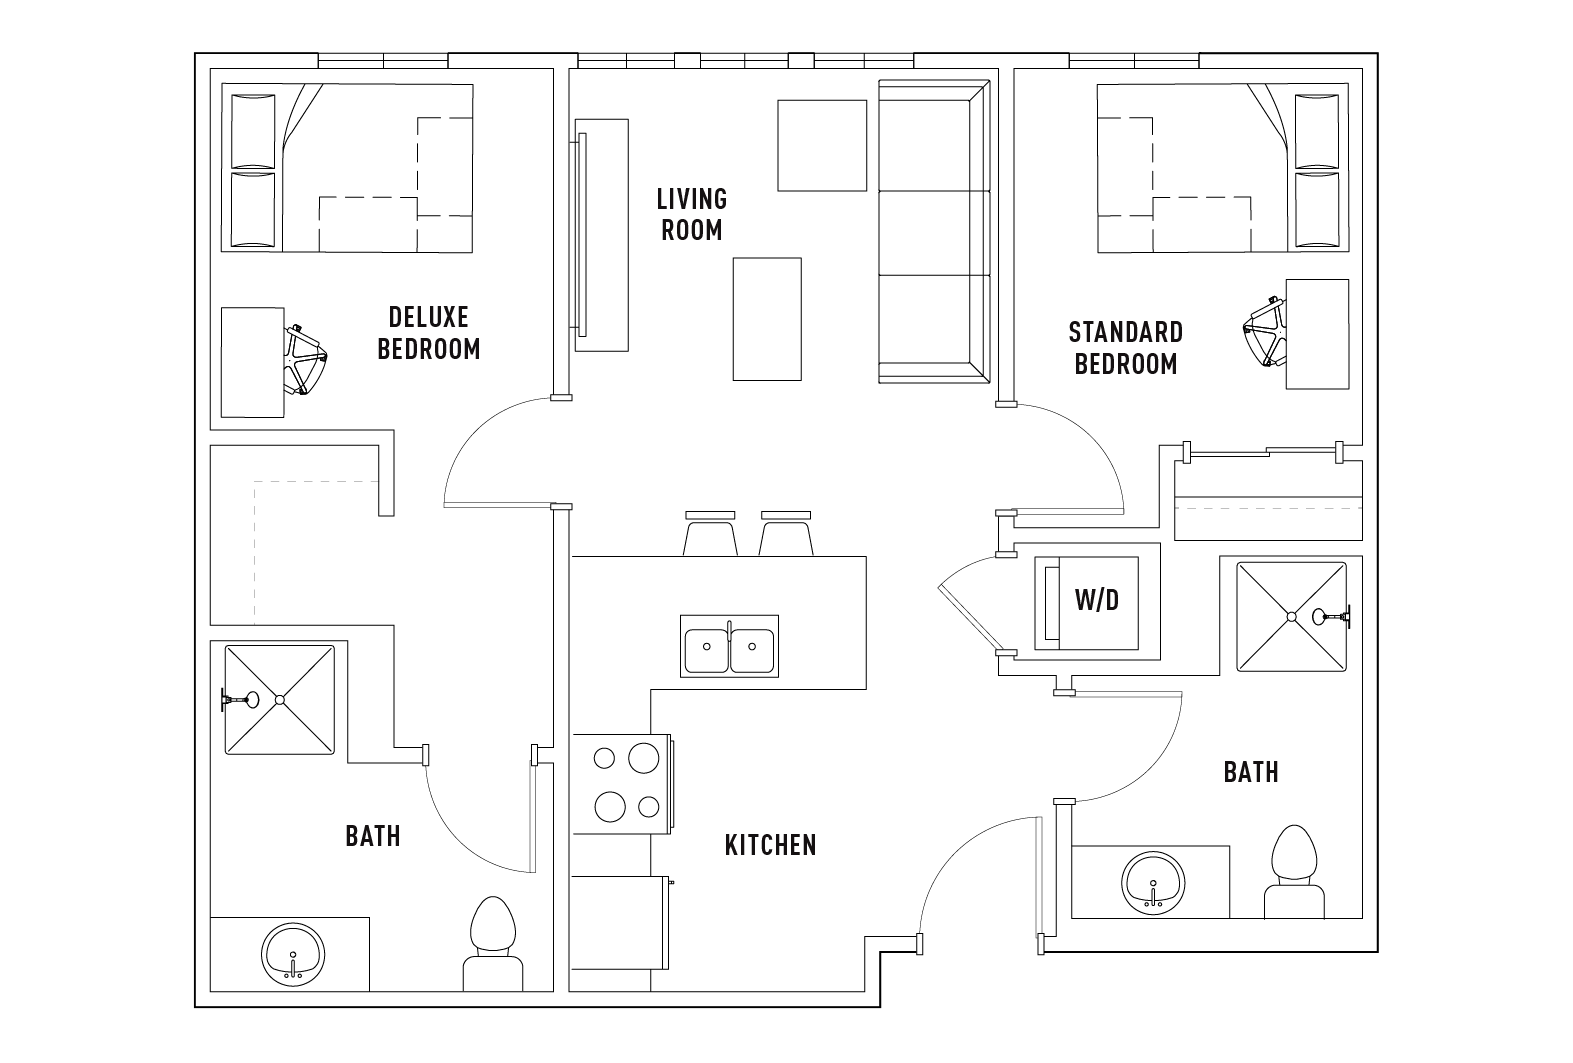door: (428, 394, 544, 531), (421, 778, 549, 884), (1085, 689, 1214, 795), (921, 802, 1049, 908), (1015, 415, 1144, 521), (911, 553, 1002, 647)
room: (193, 51, 571, 756), (555, 55, 1012, 516), (554, 505, 1011, 948), (1000, 53, 1378, 516), (995, 518, 1381, 948), (193, 753, 571, 1013)
window: (1065, 46, 1211, 72), (317, 56, 454, 72), (693, 53, 803, 74), (809, 49, 924, 66), (571, 53, 677, 65)
